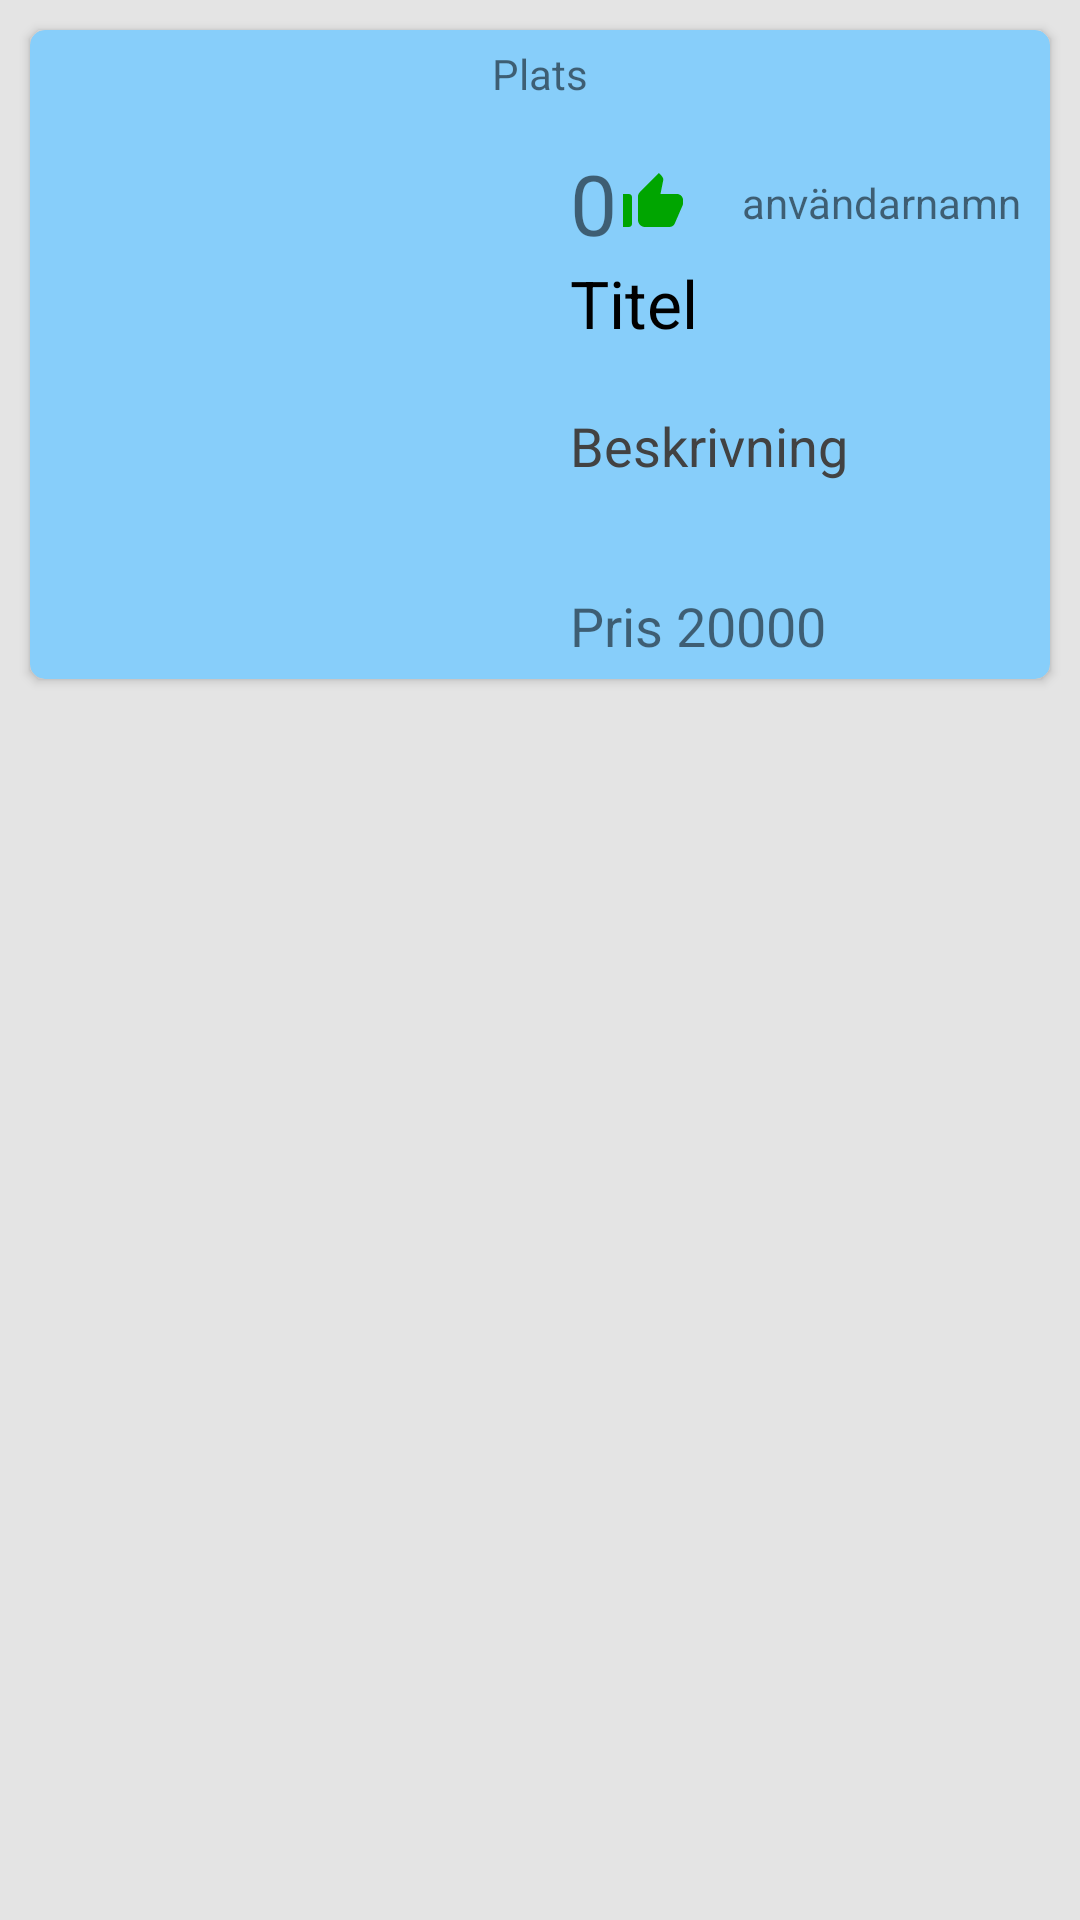

Where to tap for icons on this 1080×1920 app screen, as [x,y]:
thumb up: [653,200]
